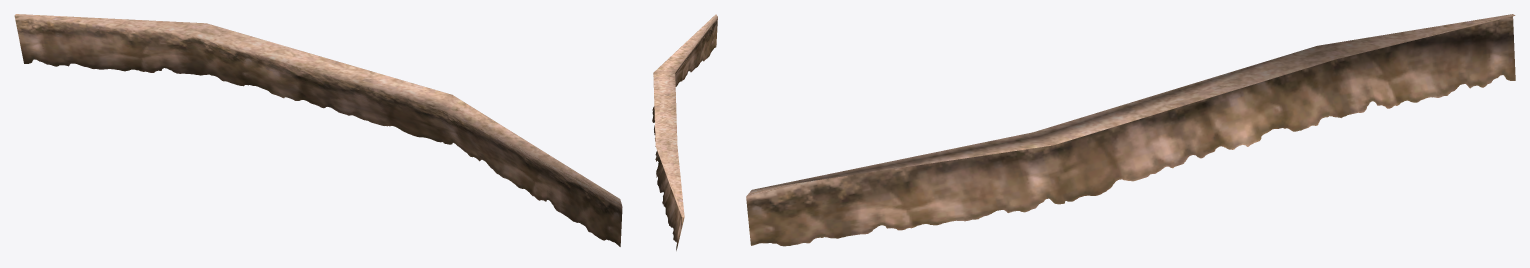
Rendered from EKH_GROTTO_PS_GR_LINE41.fbx.
The picture shows the model from 3 angles, left to right: view 1: azimuth 30°, elevation 25°; view 2: azimuth 150°, elevation 25°; view 3: azimuth 270°, elevation 25°; orthographic projection. The views are drawn at different scales.
Visible parts, largest first — view 1: EKH_GROTTO_PS_GR_LINE41; view 2: EKH_GROTTO_PS_GR_LINE41; view 3: EKH_GROTTO_PS_GR_LINE41.
Part boxes in pixels (left/top/right/bottom): EKH_GROTTO_PS_GR_LINE41: left=14, top=14, right=622, bottom=246; EKH_GROTTO_PS_GR_LINE41: left=652, top=14, right=717, bottom=250; EKH_GROTTO_PS_GR_LINE41: left=746, top=14, right=1515, bottom=246.
Size of the model in its own units: 19238 by 5727 by 39160.
Materials: 1 (1 with a texture image).
